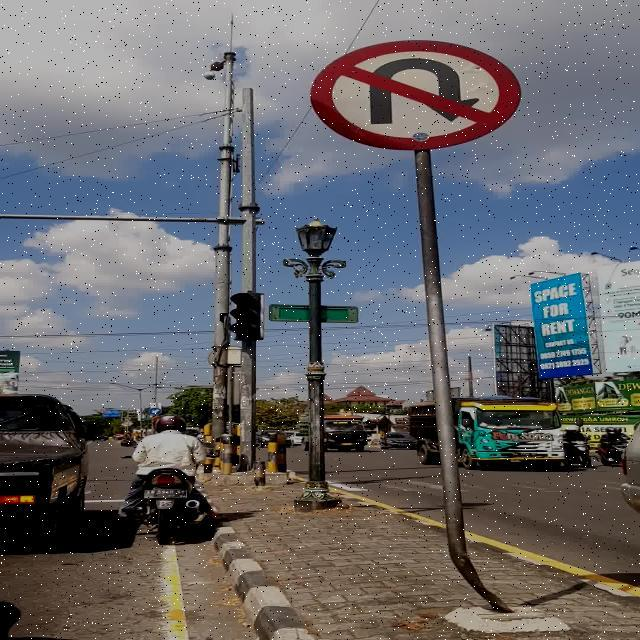Dilarang Putar Balik: (309, 40, 522, 150)
